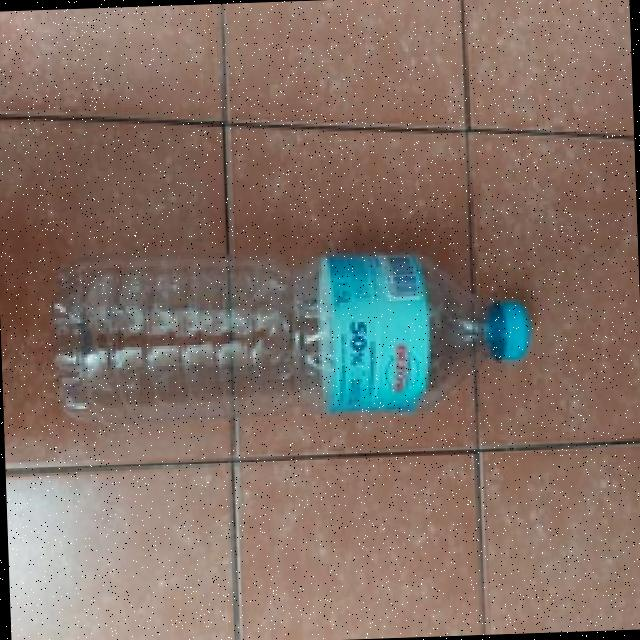bottle: (1, 227, 574, 438)
cap: (484, 301, 538, 363)
